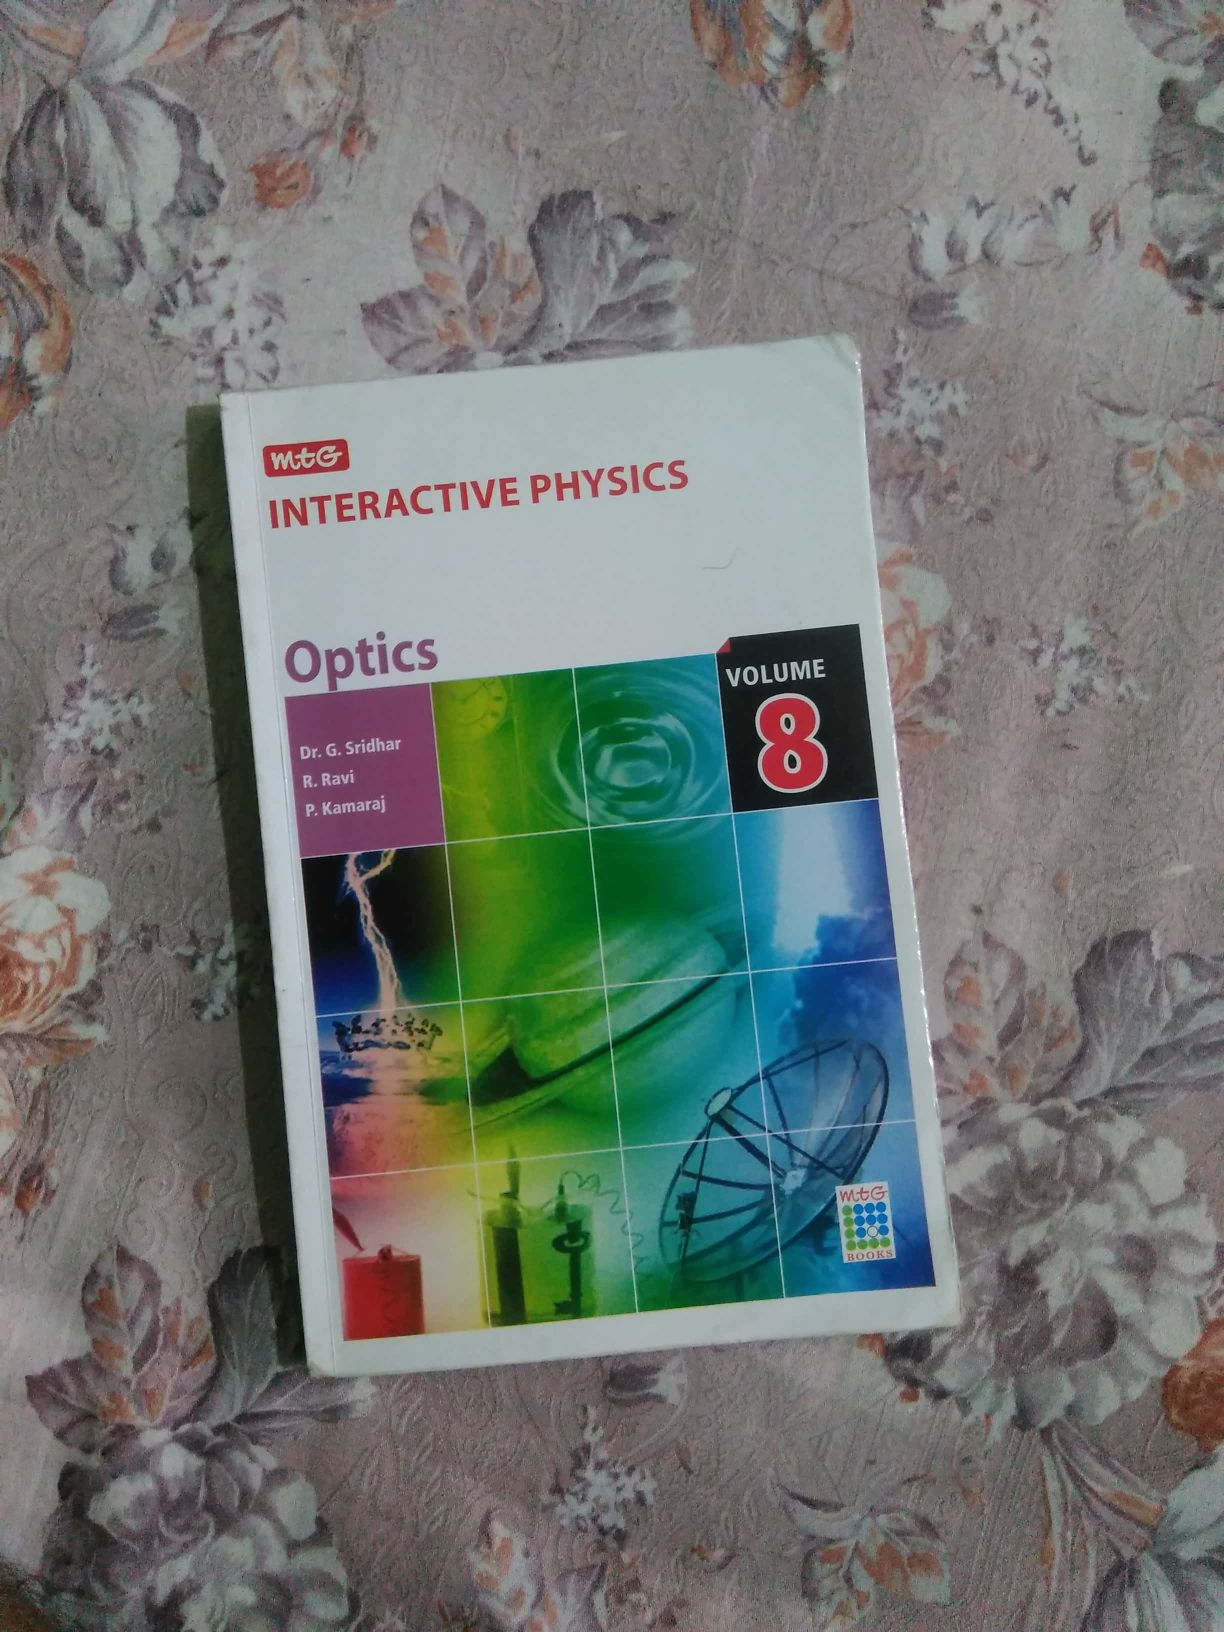optics: (126, 346, 1050, 1351)
